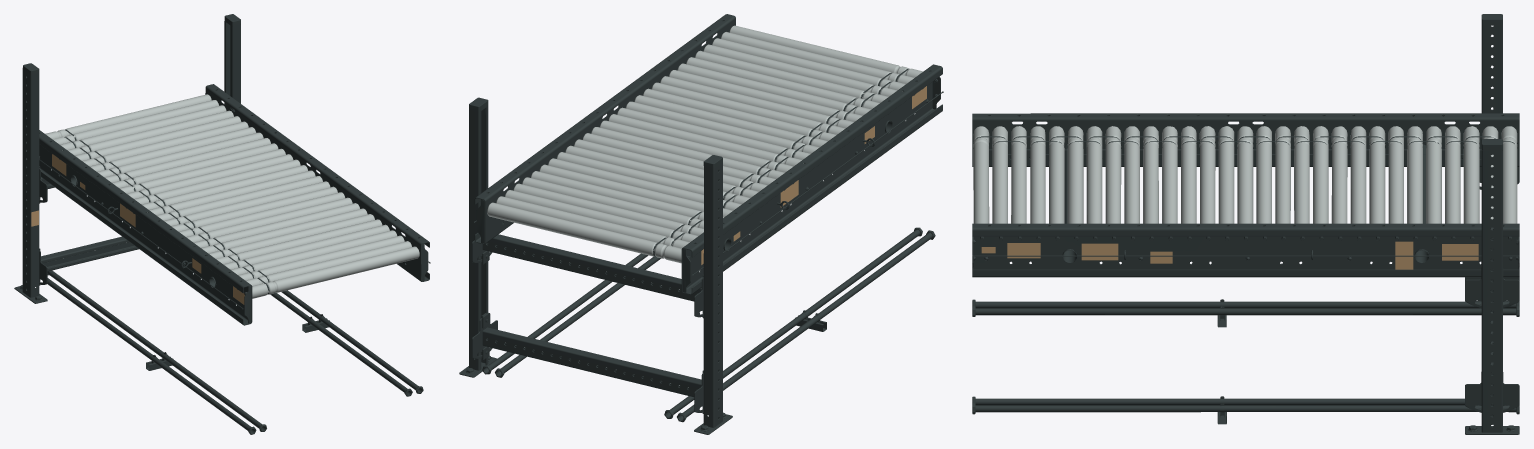
The model's file is conveyor_belt_a05.glb.
3 views of the same model, side by side, from view 1: azimuth 30°, elevation 25°; view 2: azimuth 150°, elevation 25°; view 3: azimuth 270°, elevation 25° (orthographic). The views are drawn at different scales.
Visible parts, largest first — view 1: conveyor_belt_a05; view 2: conveyor_belt_a05; view 3: conveyor_belt_a05.
Boxes of the visible parts, <box> form: conveyor_belt_a05: <box>14,14,430,434</box>; conveyor_belt_a05: <box>459,14,943,434</box>; conveyor_belt_a05: <box>972,14,1519,434</box>.
Size of the model in its own units: 1.15 by 1.17 by 2.
